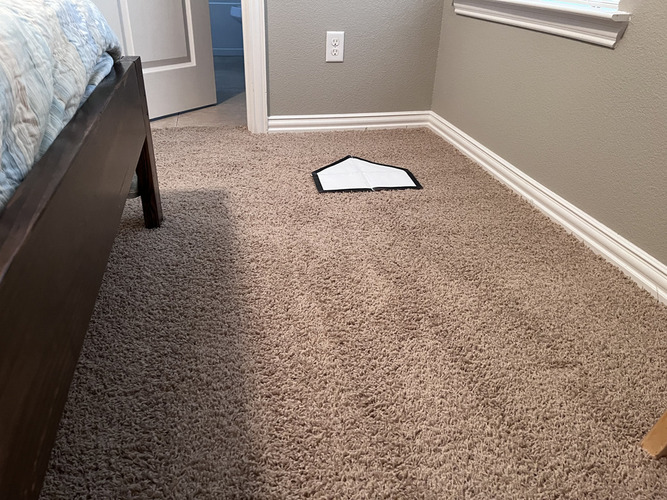homeplate: (309, 154, 422, 193)
